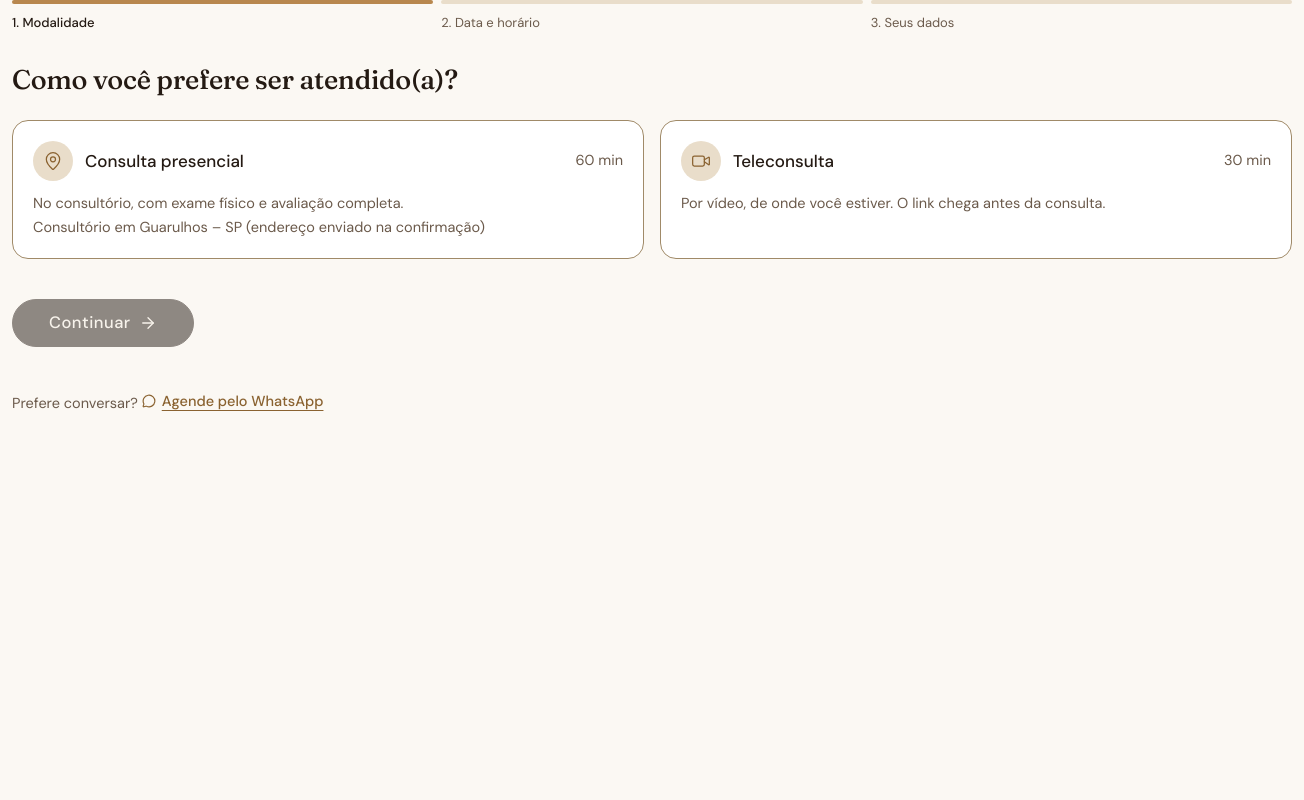
<FluxoAgendamento> › continuar sem escolher horário: mostra erro específico
The width and height of the screenshot is (1304, 800).
Click the radio button labelled "Consulta presencial": (53, 161) left=12, top=120, right=644, bottom=259
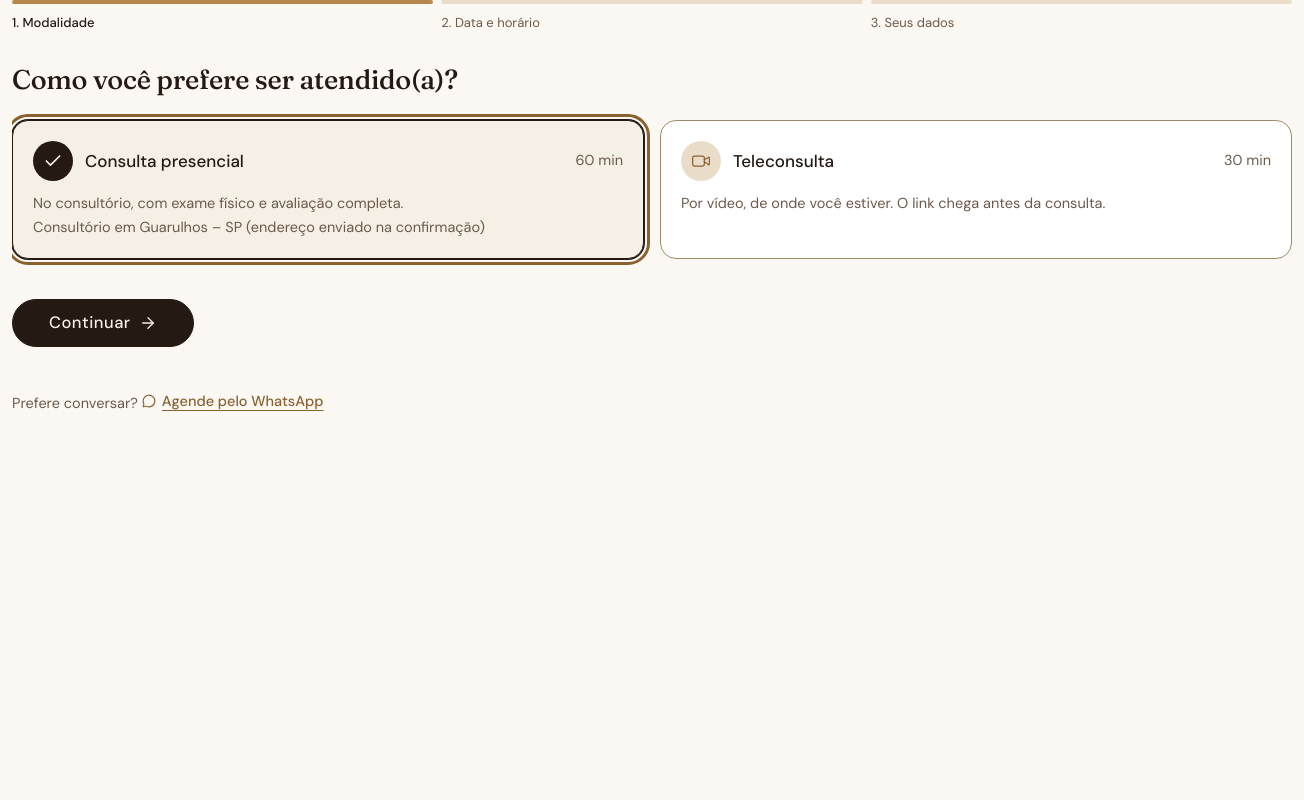
Click the button "Continuar": (103, 323) left=12, top=299, right=194, bottom=347
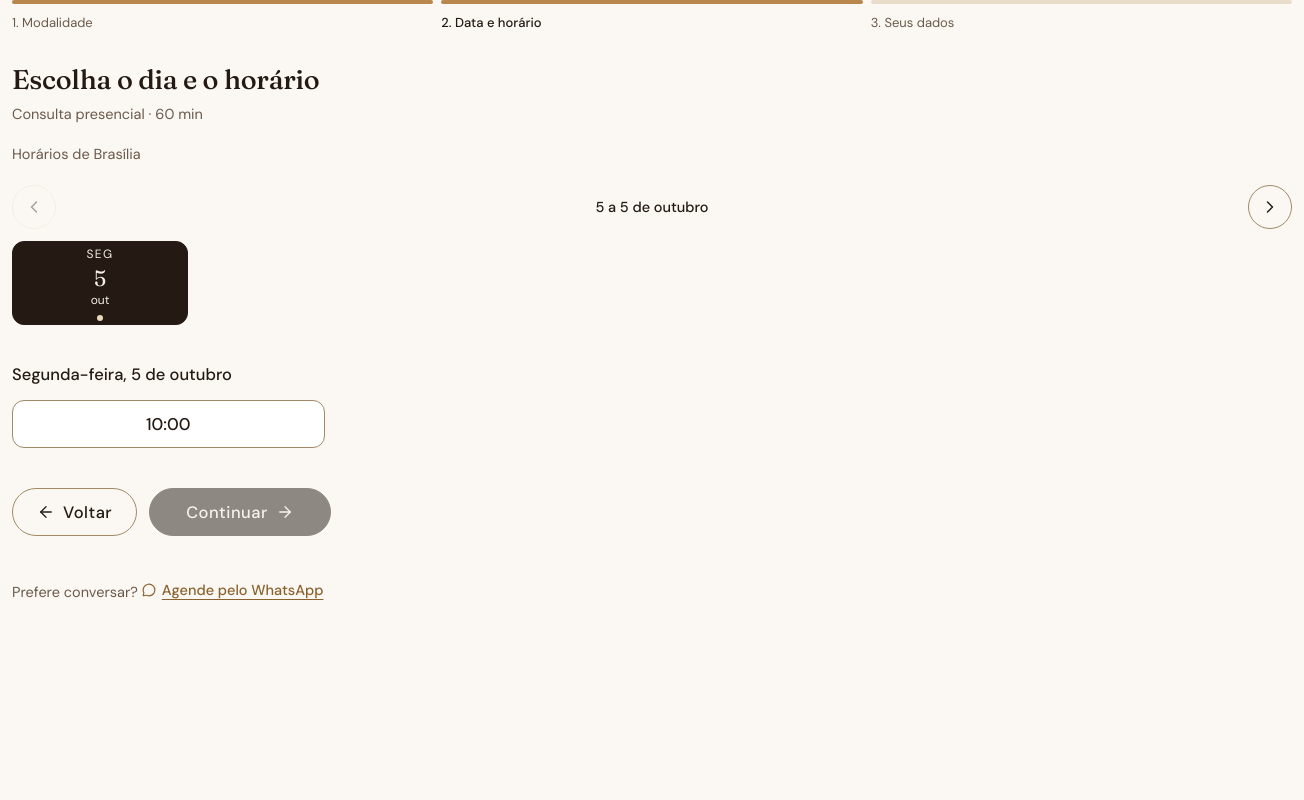
Expected: the heading "Escolha o dia e o horário" is shown, left=12, top=63, right=319, bottom=96
Expected: the radio button labelled "10:00" is shown, left=12, top=400, right=324, bottom=448
Click the button "Continuar": (240, 512) left=149, top=488, right=331, bottom=536
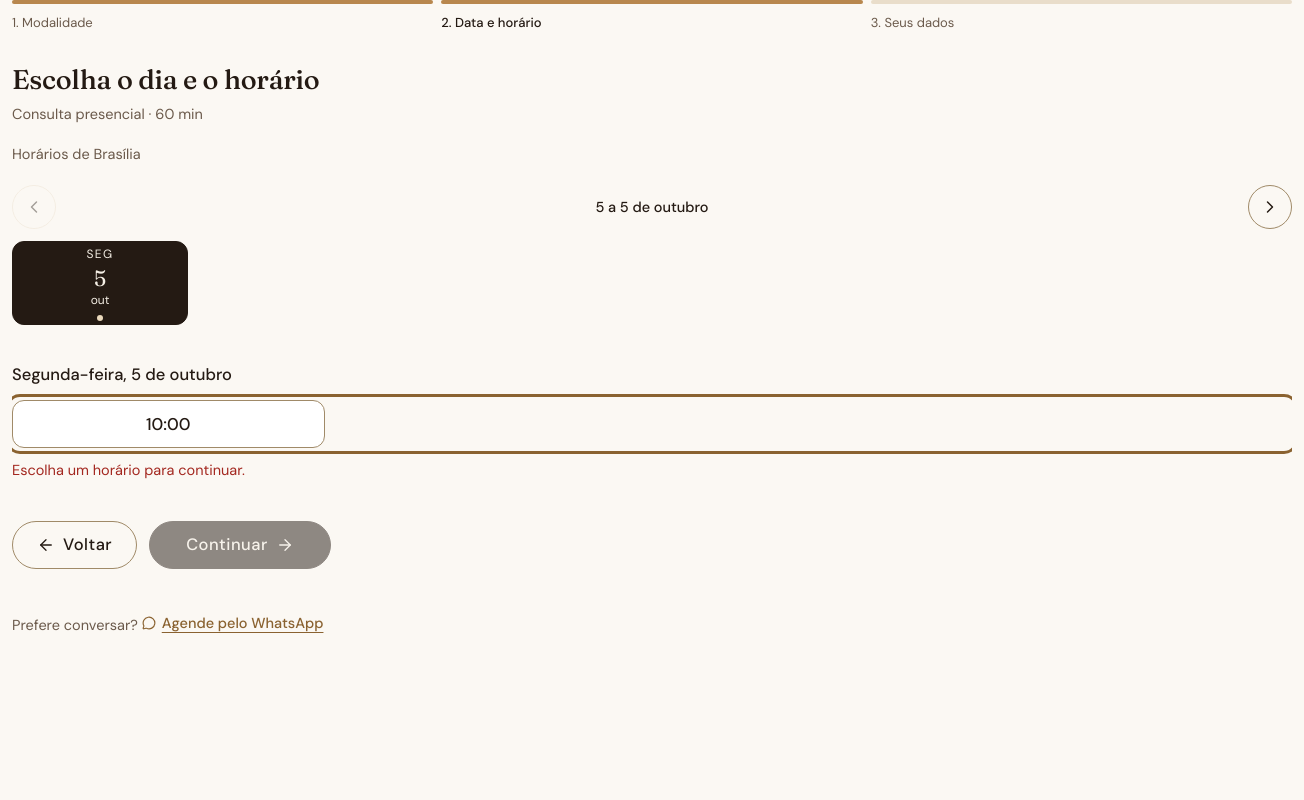
Expected: the message reads "Escolha um horário para continuar.", left=12, top=461, right=245, bottom=479
